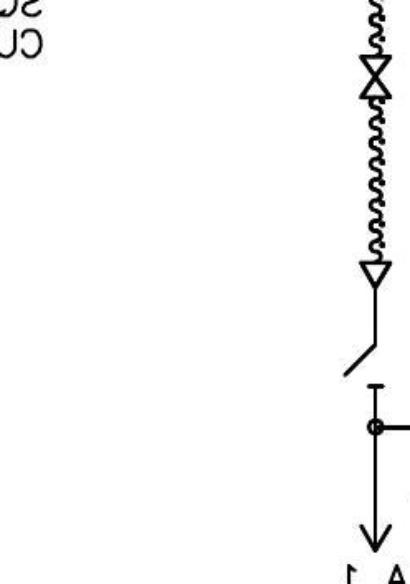terminator_single: (356, 258, 394, 289)
terminator_splicing_kits: (358, 54, 393, 100)
